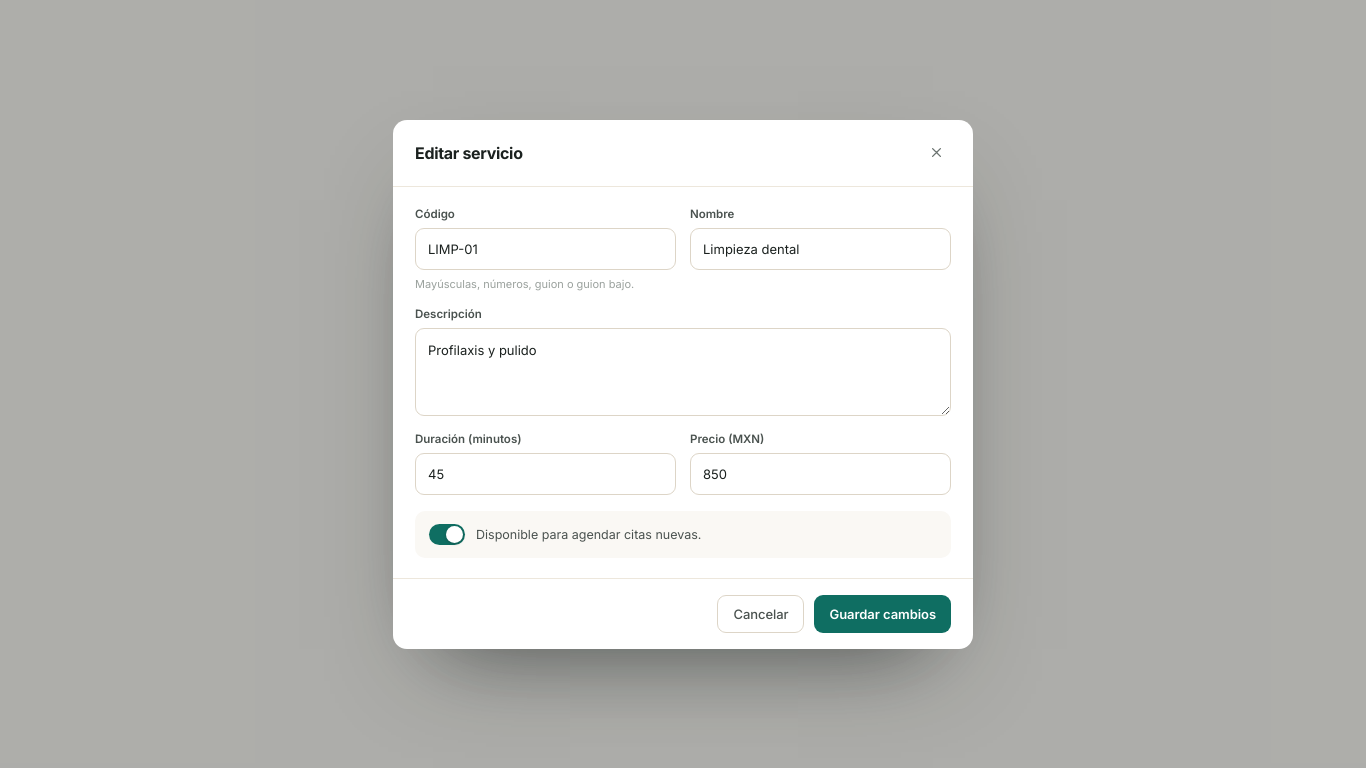
ServiceFormModal failures › shows the server message and stays open when saving fails
The image size is (1366, 768).
Click the button "Guardar cambios".
click(883, 614)  # box [814,594,951,632]
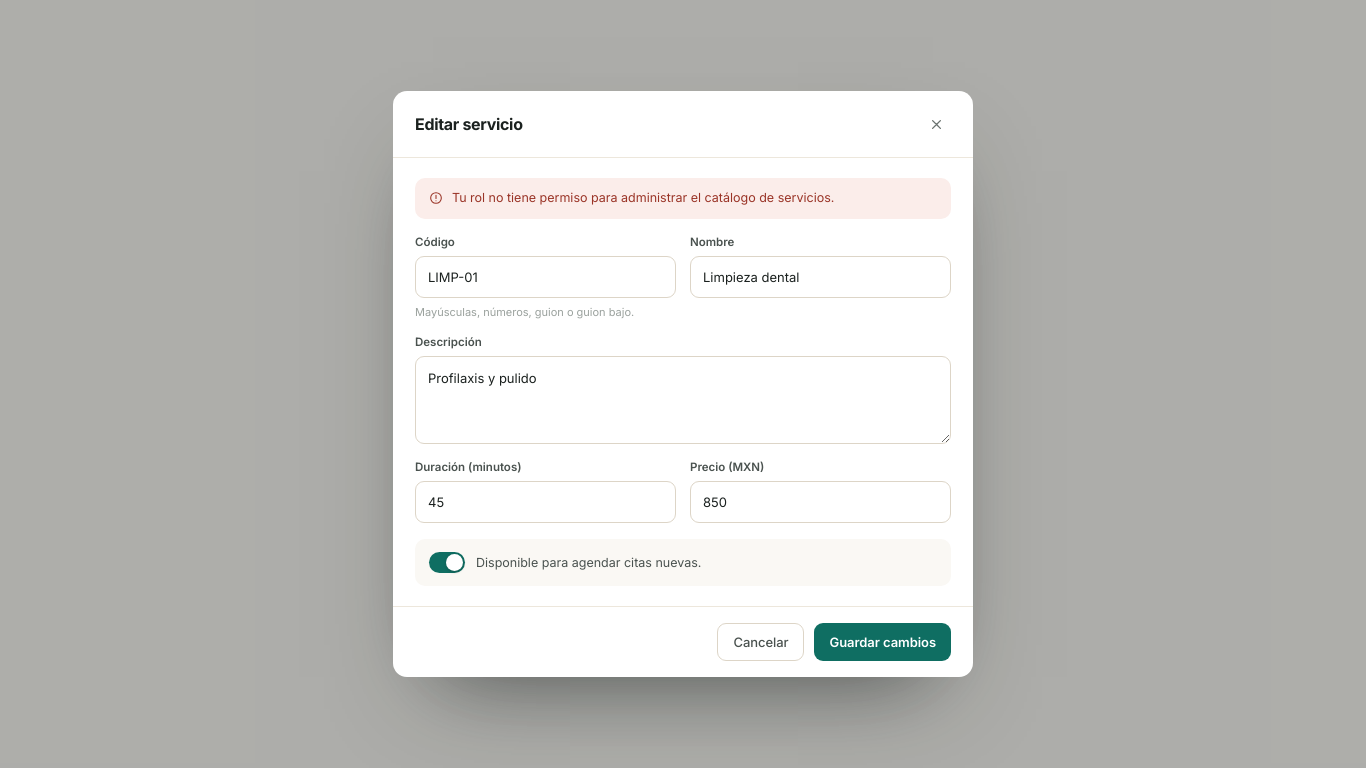
Check: the text "permiso" is shown, box [452,190,834,205]
